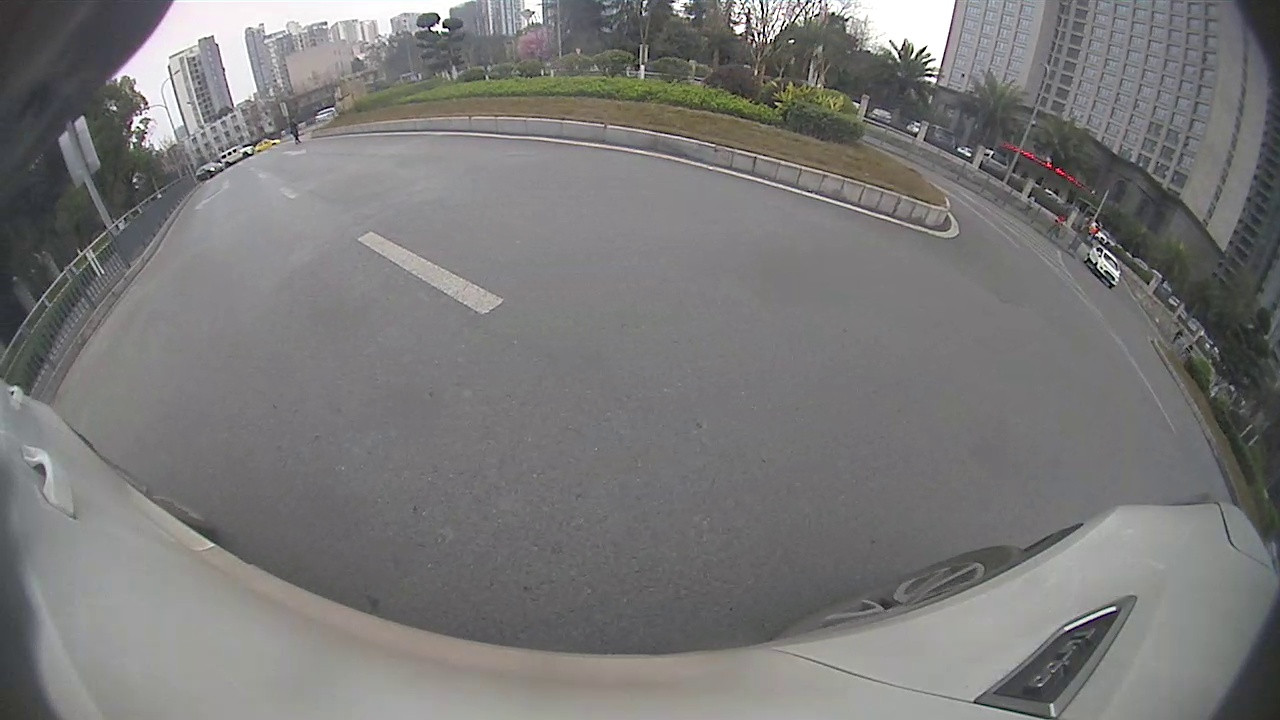car: (1085, 247, 1119, 289)
person: (288, 118, 299, 145)
